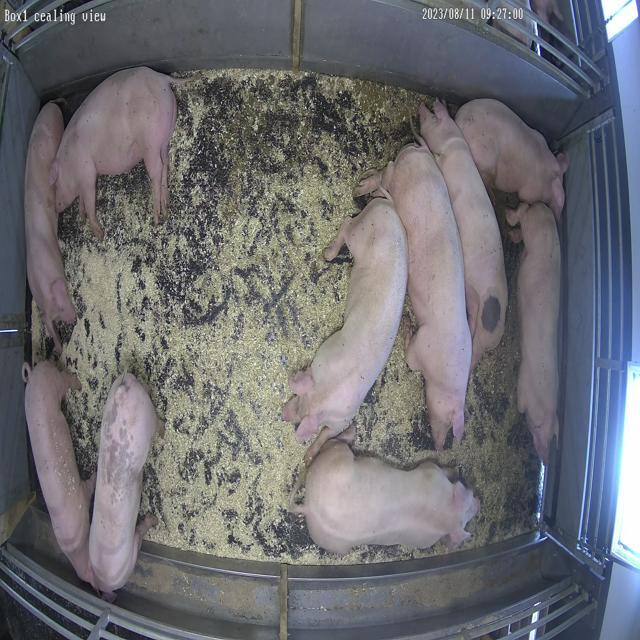Dirt: (353, 79, 434, 168)
Pig: (353, 144, 473, 450), (284, 198, 408, 442), (421, 100, 509, 368), (296, 427, 481, 554), (52, 66, 176, 238), (22, 362, 94, 584), (89, 374, 158, 594), (507, 202, 562, 464), (456, 98, 570, 218), (24, 102, 75, 350)
